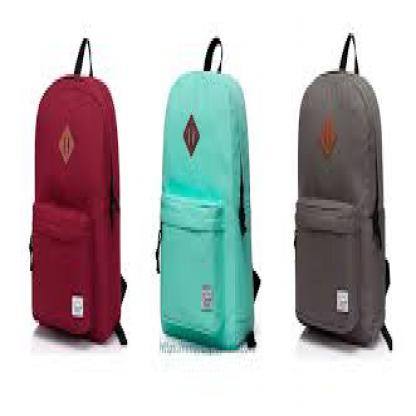morral: (288, 14, 410, 383), (10, 22, 137, 364), (150, 25, 272, 375)
